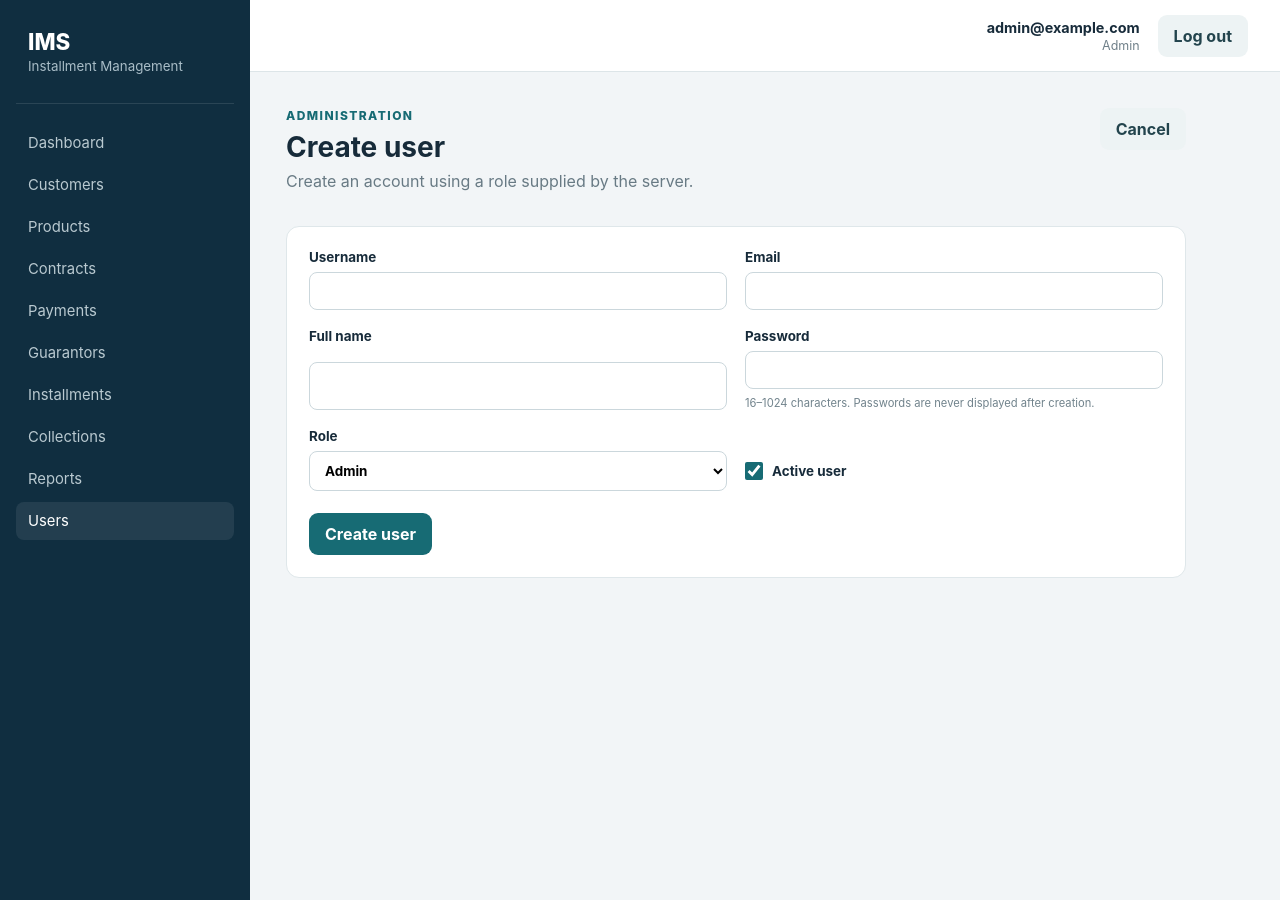
Scenario: Users management › maps create validation and duplicate email safely
Type "new-user" into the field labelled "Username" at (518, 291), box x1=309 y1=272 x2=727 y2=310
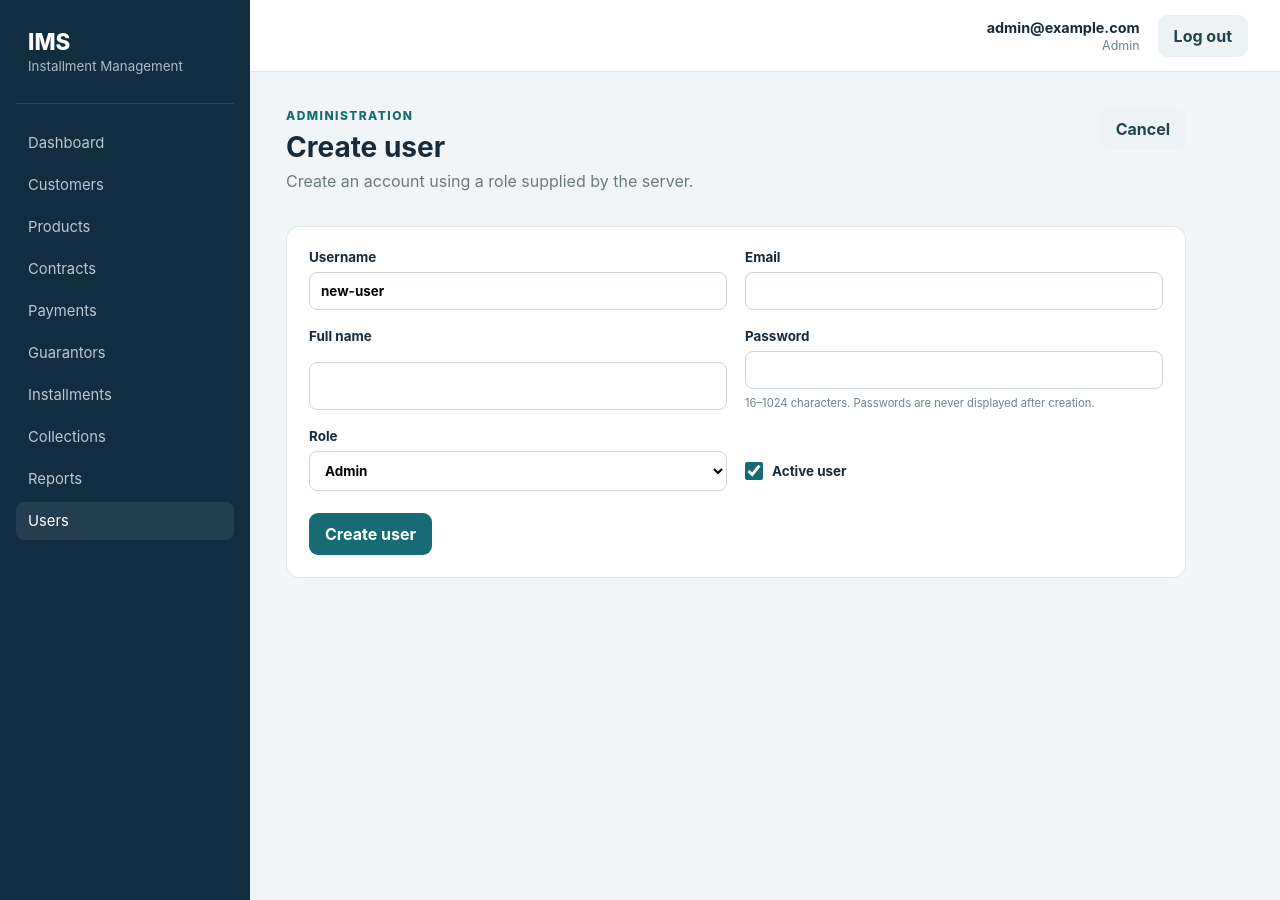
Type "new@example.com" into the field labelled "Email" at (954, 291), box x1=745 y1=272 x2=1163 y2=310
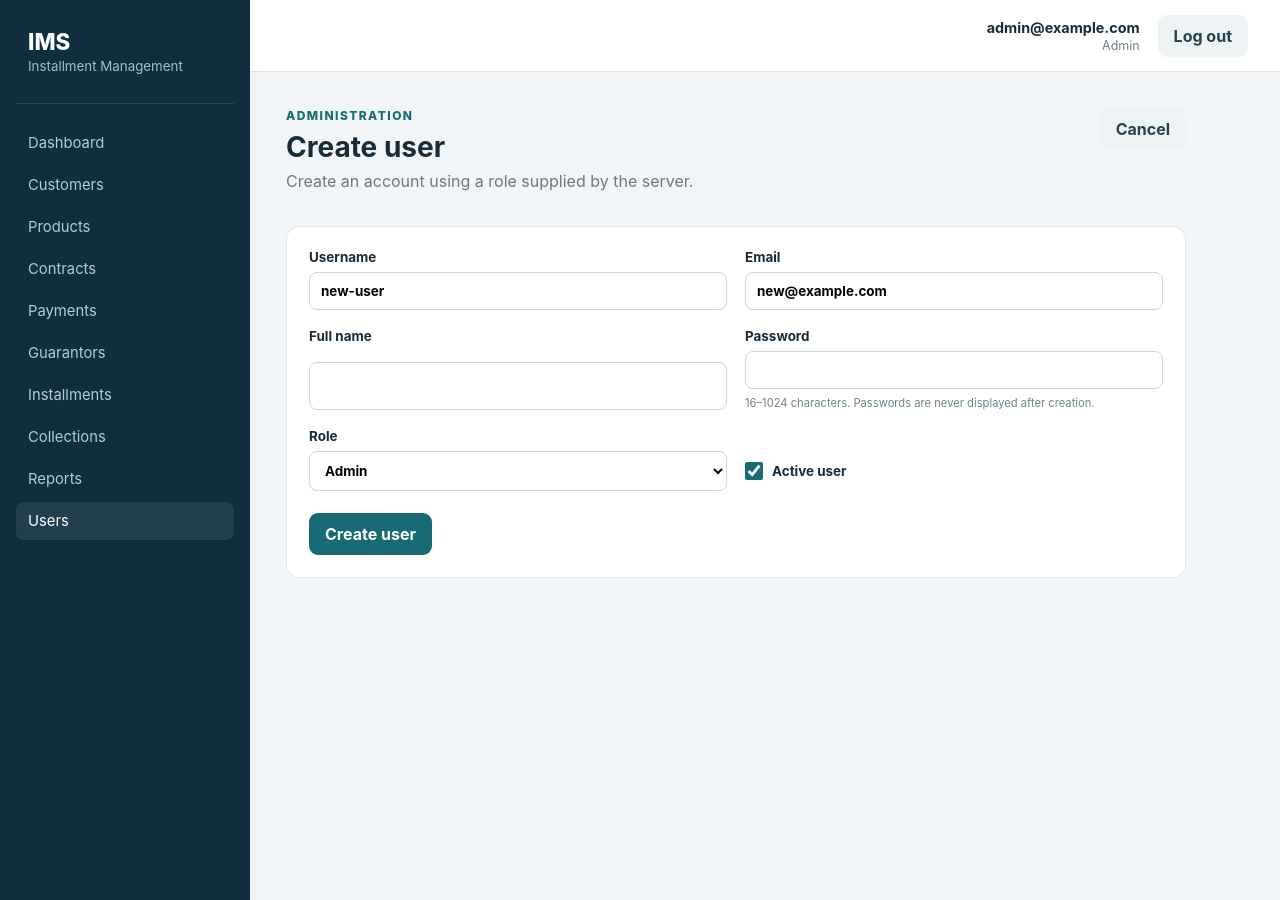
Type "New User" into the field labelled "Full name" at (518, 386), box x1=309 y1=362 x2=727 y2=410
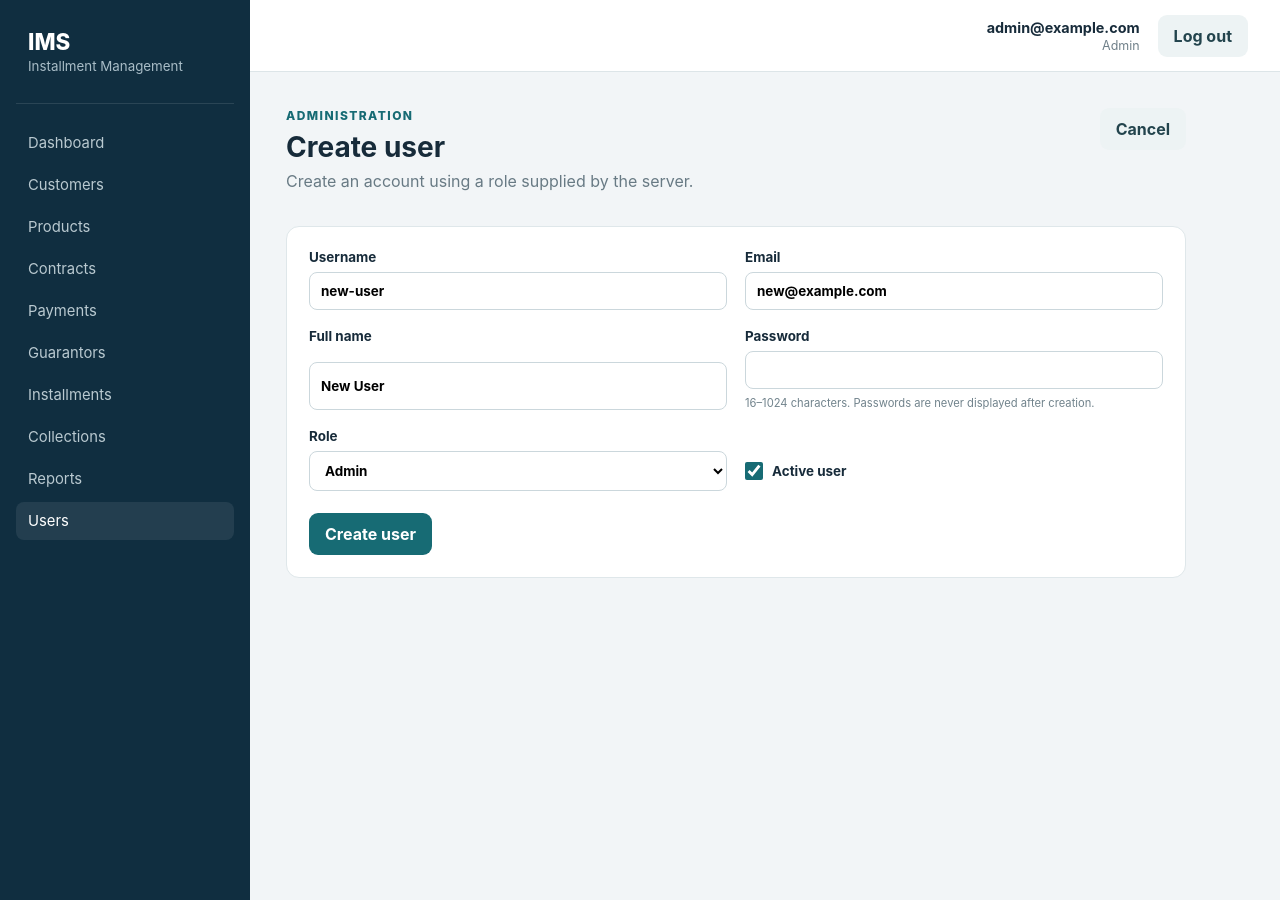
Type "sixteen-character-password" into the password field labelled "Password" at (954, 370), box x1=745 y1=351 x2=1163 y2=389
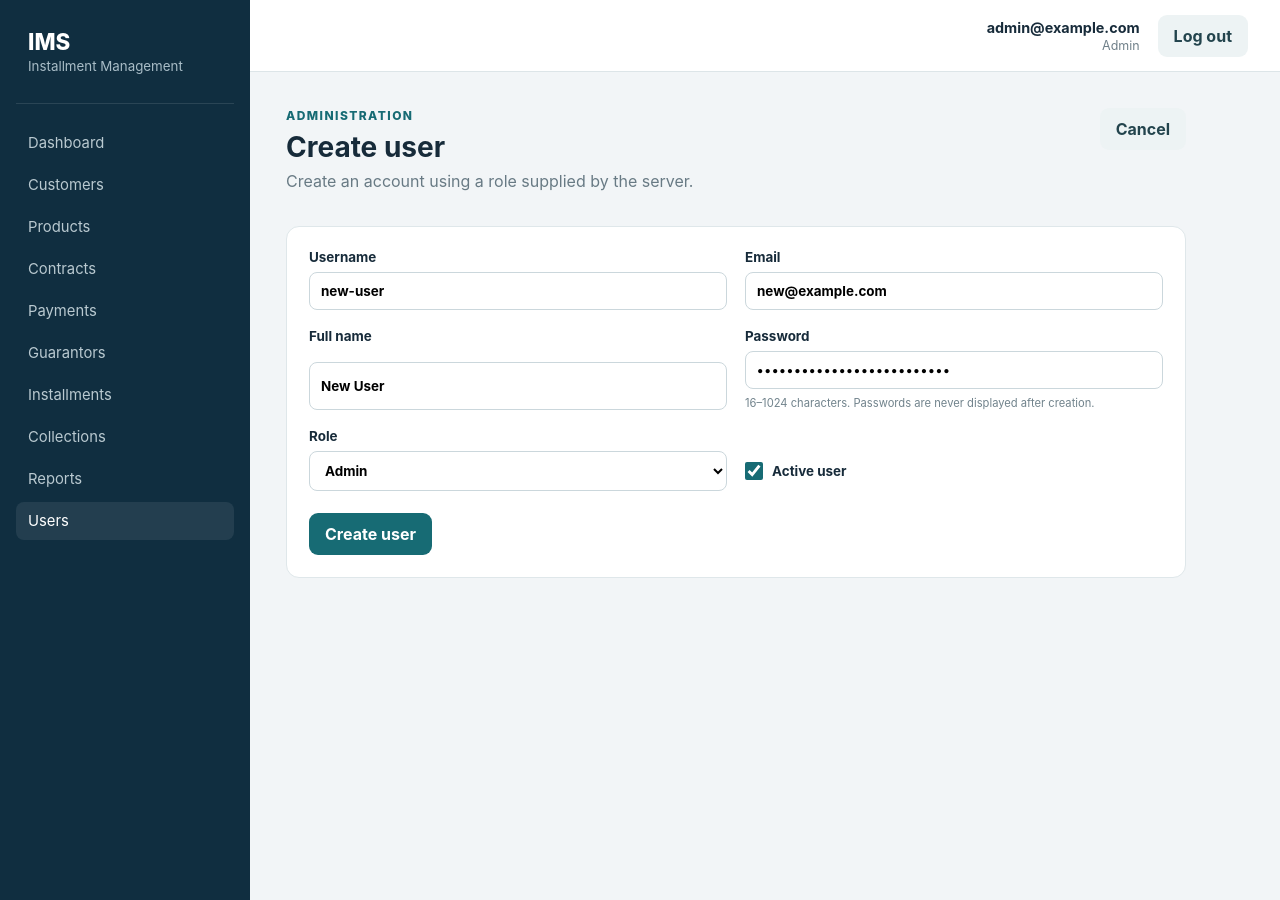
Click the button "Create user" at (370, 534), box x1=309 y1=513 x2=432 y2=555
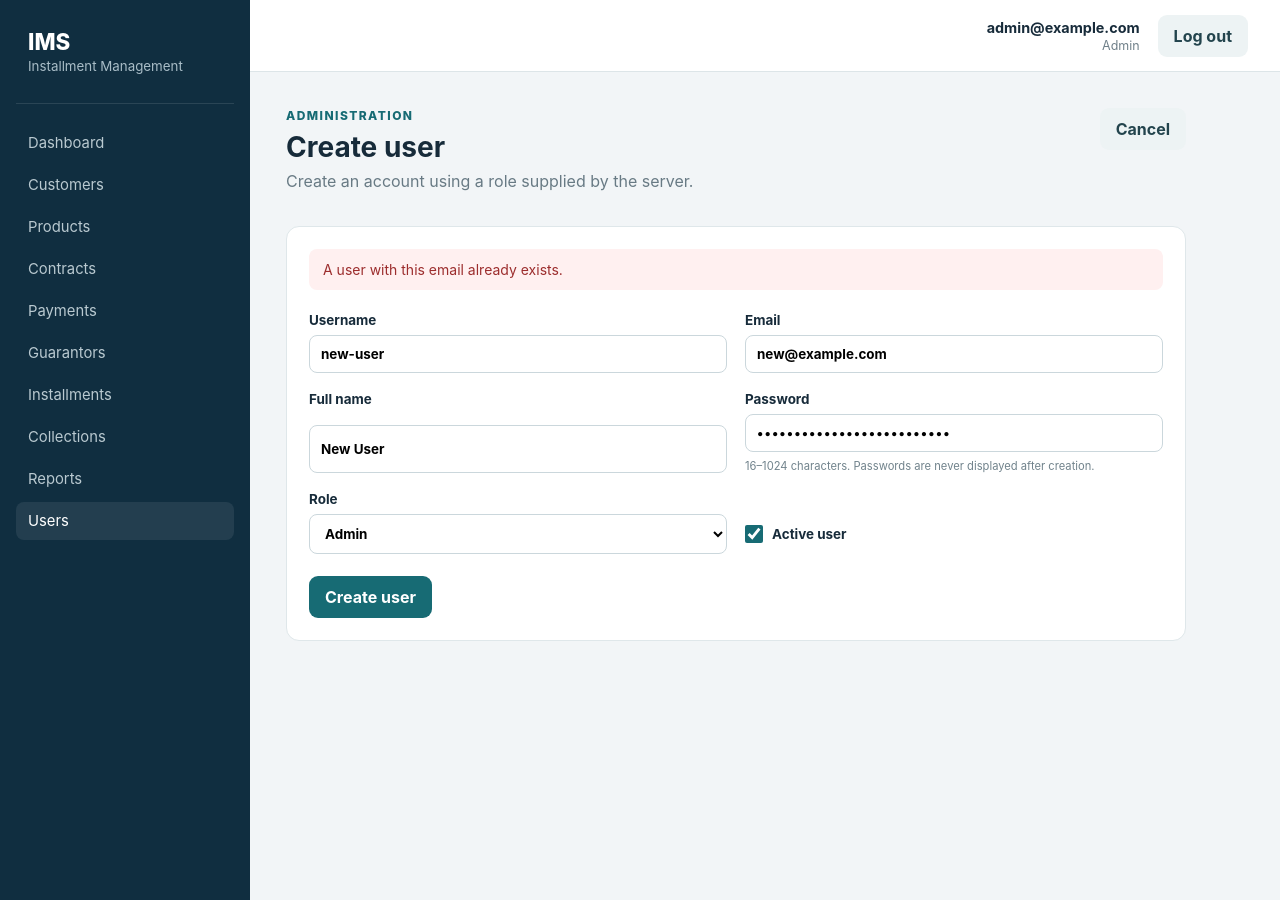
Now the message reads "A user with this email already exists.", box x1=323 y1=261 x2=563 y2=278
